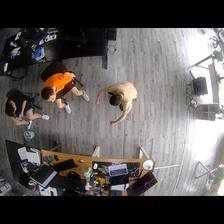normal: (94, 75, 141, 122), (41, 70, 90, 112), (5, 92, 51, 132)
